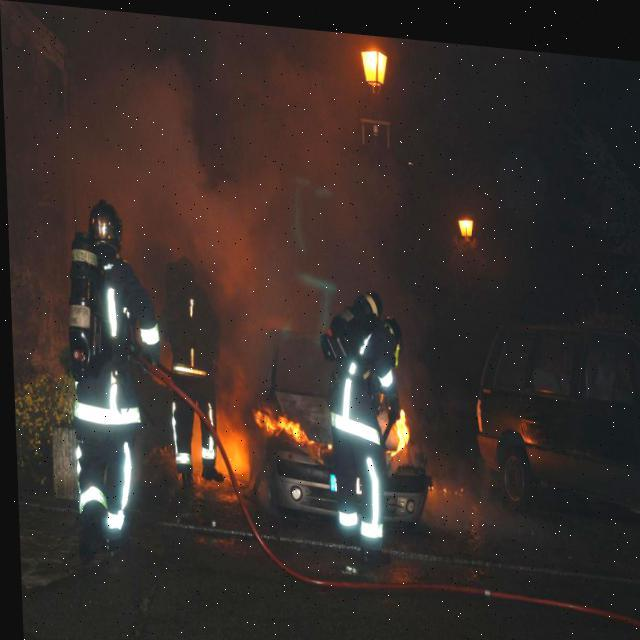Fire: (248, 392, 325, 450), (391, 403, 410, 447)
